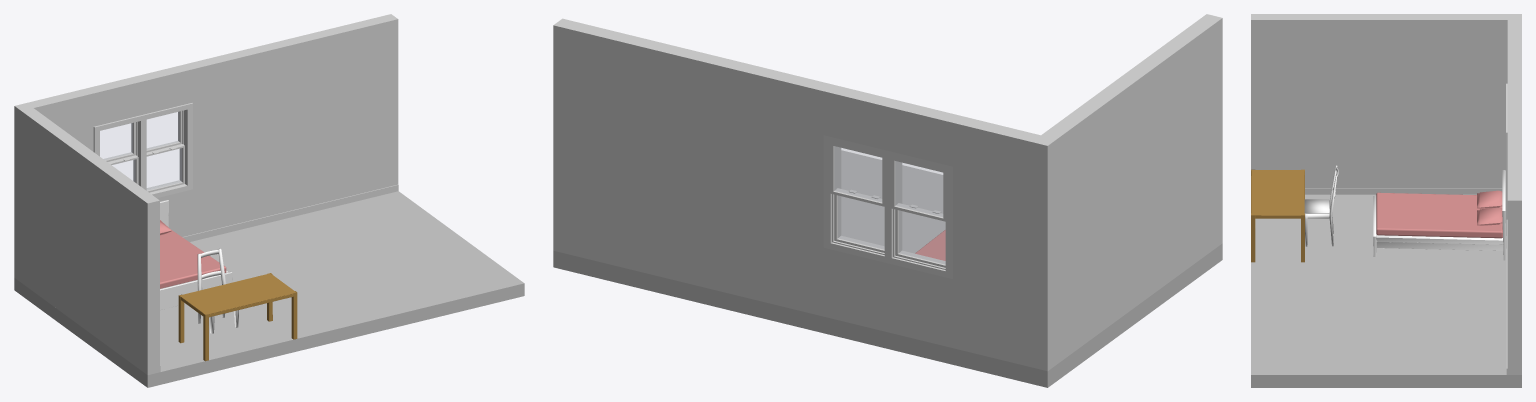
The model's file is L12_W20_furniture2_privacy3.glb.
3 views of the same model, side by side, from view 1: azimuth 30°, elevation 25°; view 2: azimuth 150°, elevation 25°; view 3: azimuth 270°, elevation 25° (orthographic). The views are drawn at different scales.
Bounding box in the file's own units: 248 × 116 × 152.
